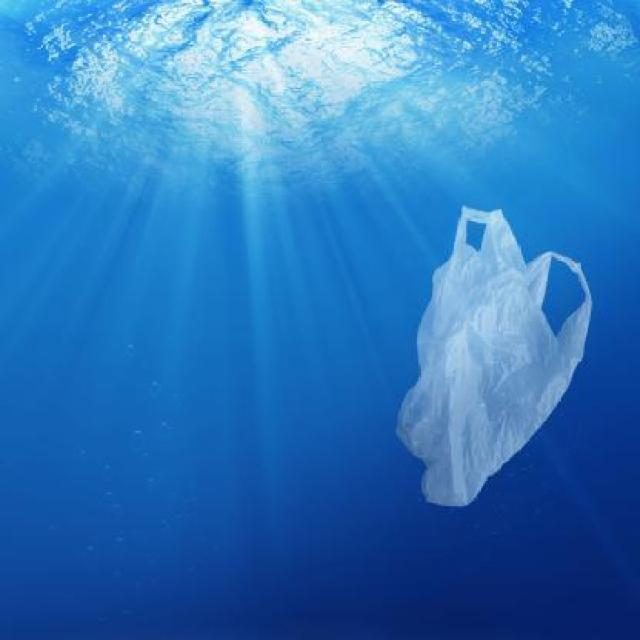plastic bag: (391, 199, 599, 533)
